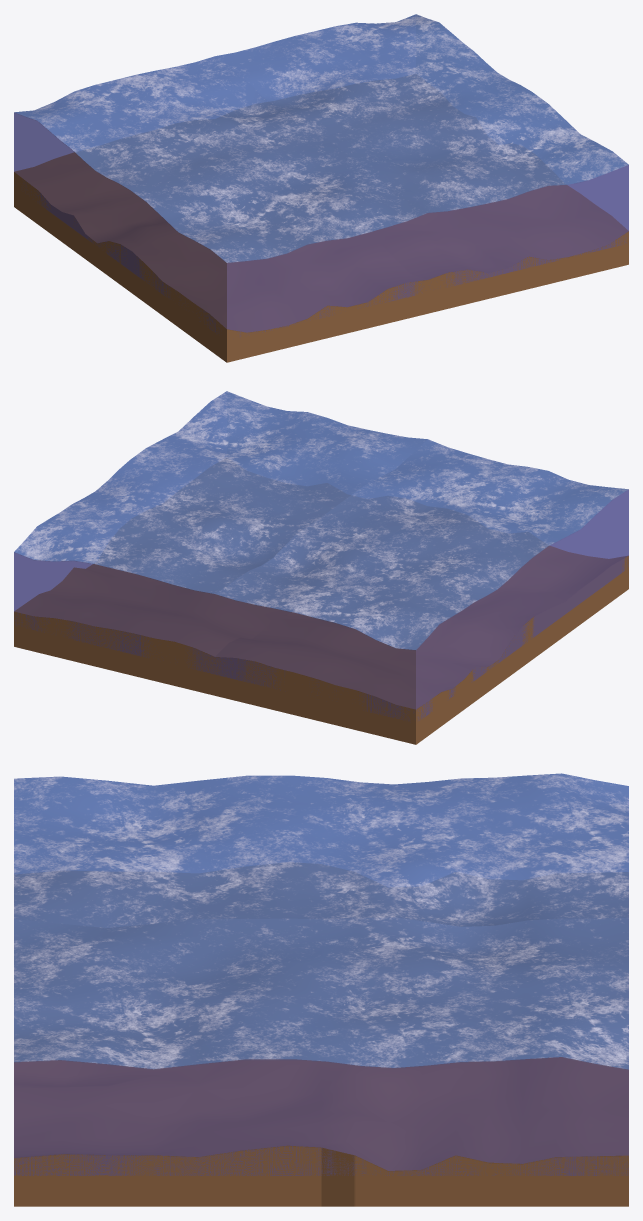
The picture shows the model from 3 angles, top to bottom: view 1: azimuth 30°, elevation 25°; view 2: azimuth 150°, elevation 25°; view 3: azimuth 270°, elevation 25°; orthographic projection. The views are drawn at different scales.
Visible parts, largest first — view 1: ocean3, sand3; view 2: ocean3, sand3; view 3: ocean3, sand3.
Part boxes in pixels (box(x1,y1,x2,y2)): ocean3: box(14, 14, 628, 336); sand3: box(14, 152, 628, 362); ocean3: box(14, 391, 628, 720); sand3: box(14, 546, 628, 744); ocean3: box(14, 773, 628, 1175); sand3: box(14, 898, 628, 1206).
Size of the model in its own units: 0.48 by 0.1193 by 0.44.
2 materials, 2 textured.
